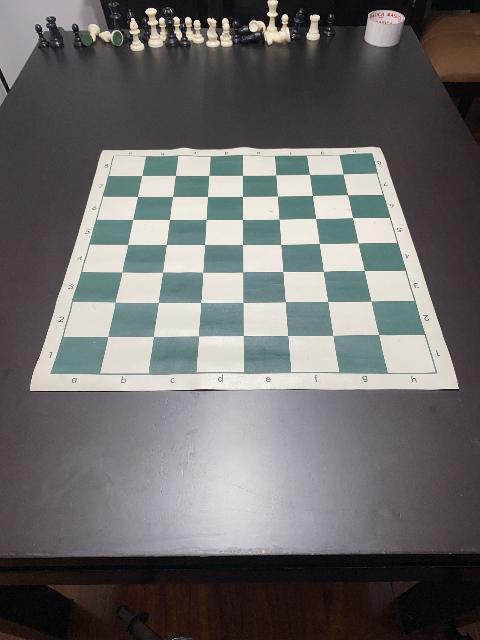board: (29, 146, 459, 392)
